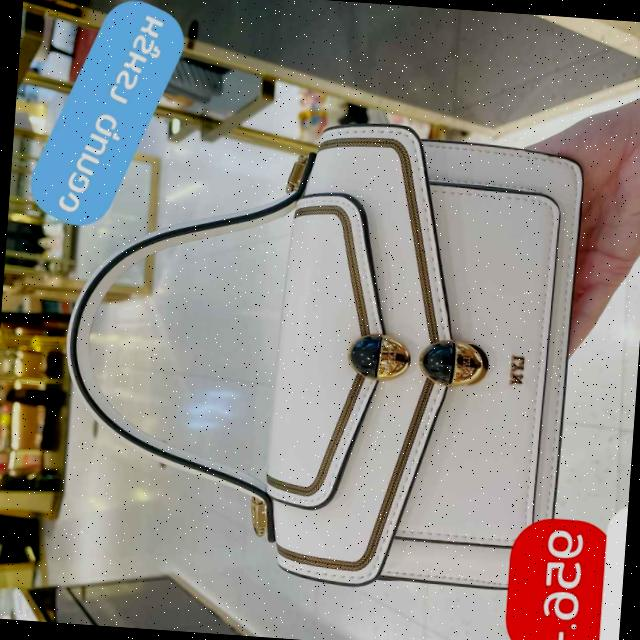Handbag: (243, 74, 605, 606)
